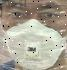with_mask: (2, 2, 67, 70)
